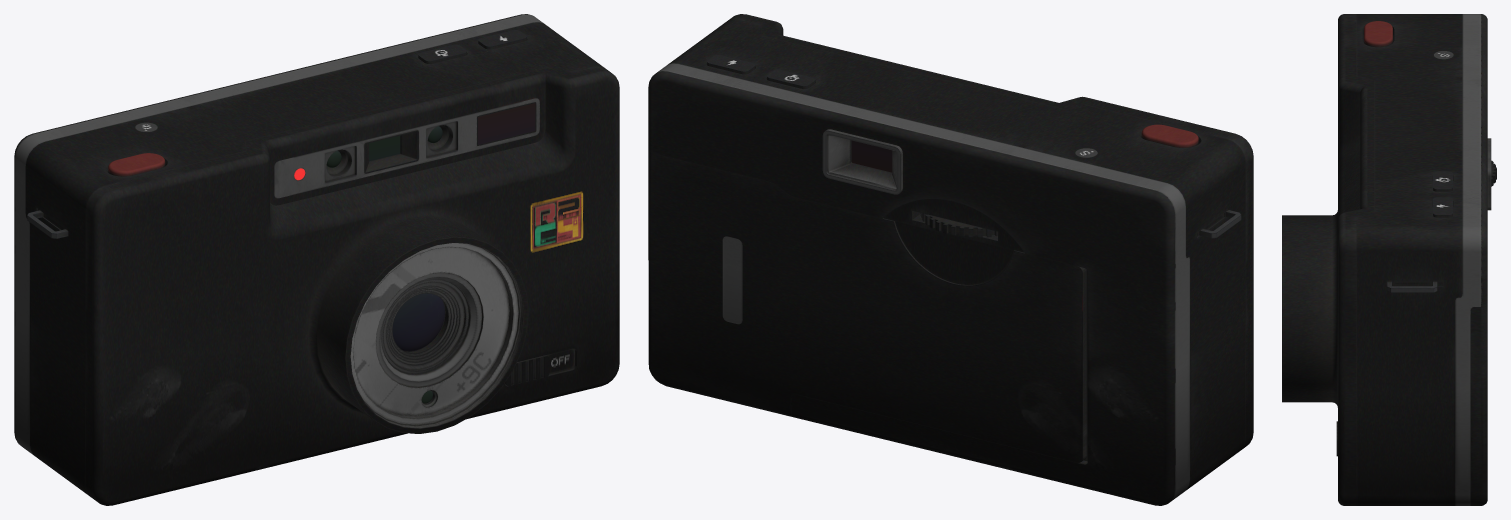
File: present_59_camera_sf.fbx
3 renders of one model, left to right at view 1: azimuth 30°, elevation 25°; view 2: azimuth 150°, elevation 25°; view 3: azimuth 270°, elevation 25°, orthographic. The views are drawn at different scales.
Visible parts, largest first — view 1: cam.010_low, cam.006_low, cam.013_low, cam.021_low, cam.025_low, cam.026_low, cam.015_low, cam.020_low, cam.005_low, cam.004_low, cam.023_low, cam.022_low; view 2: cam.011_low, cam.013_low, cam.006_low, cam.010_low, cam.016_low, cam.020_low, cam.005_low, cam.017_low, cam.030_low; view 3: cam.006_low, cam.010_low, cam.013_low, cam.011_low, cam.020_low, cam.005_low, cam.031_low.
Boxes of the visible parts, bbox=[...] form: cam.010_low: bbox=[85, 66, 619, 505]; cam.006_low: bbox=[25, 22, 603, 496]; cam.013_low: bbox=[14, 14, 543, 455]; cam.021_low: bbox=[274, 98, 539, 198]; cam.025_low: bbox=[381, 279, 468, 374]; cam.026_low: bbox=[392, 293, 444, 351]; cam.015_low: bbox=[478, 103, 535, 144]; cam.020_low: bbox=[418, 30, 526, 63]; cam.005_low: bbox=[108, 153, 165, 176]; cam.004_low: bbox=[505, 355, 549, 385]; cam.023_low: bbox=[325, 146, 355, 181]; cam.022_low: bbox=[426, 121, 456, 157]; cam.011_low: bbox=[648, 151, 1086, 462]; cam.013_low: bbox=[648, 63, 1189, 505]; cam.006_low: bbox=[668, 19, 1245, 490]; cam.010_low: bbox=[728, 14, 1253, 449]; cam.016_low: bbox=[722, 236, 742, 324]; cam.020_low: bbox=[707, 55, 815, 88]; cam.005_low: bbox=[1141, 124, 1198, 147]; cam.017_low: bbox=[851, 140, 892, 172]; cam.030_low: bbox=[920, 213, 997, 237]; cam.006_low: bbox=[1357, 14, 1462, 505]; cam.010_low: bbox=[1282, 14, 1374, 505]; cam.013_low: bbox=[1455, 14, 1491, 505]; cam.011_low: bbox=[1470, 305, 1487, 505]; cam.020_low: bbox=[1433, 171, 1452, 217]; cam.005_low: bbox=[1364, 21, 1392, 47]; cam.031_low: bbox=[1387, 281, 1437, 292].
Size of the model in its own units: 3173 by 1735 by 1202.
